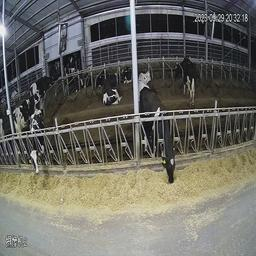cow: (139, 87, 177, 190), (172, 54, 198, 106), (30, 107, 47, 183), (14, 91, 41, 134), (99, 69, 123, 111), (30, 73, 57, 107), (140, 65, 156, 89), (73, 70, 88, 92), (122, 59, 133, 89), (93, 66, 106, 91)
